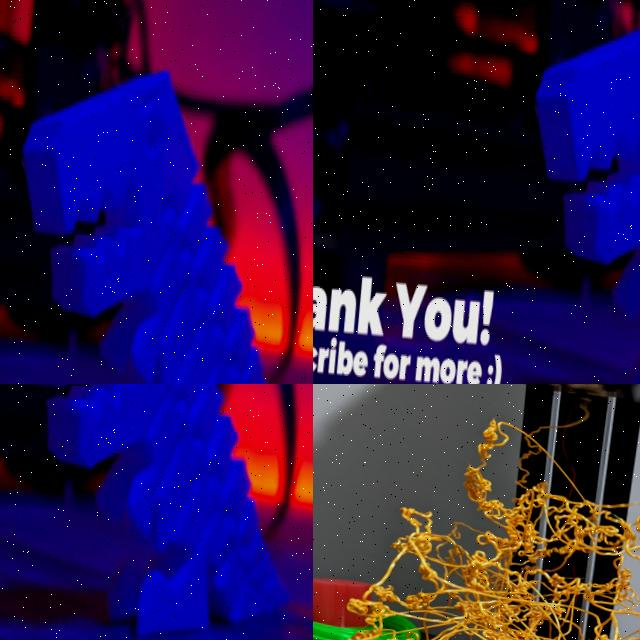spaghetti: (313, 400, 640, 640)
